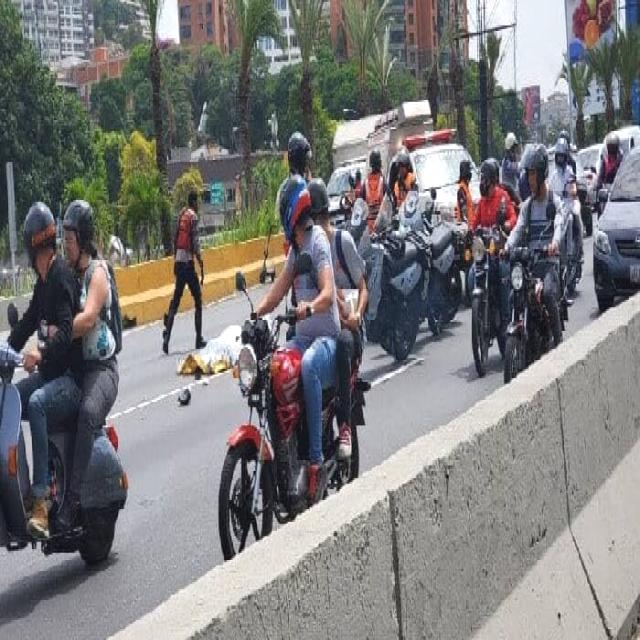MOTORCYCLE: (228, 304, 365, 580), (0, 326, 109, 563), (503, 249, 558, 367), (461, 224, 498, 376)
